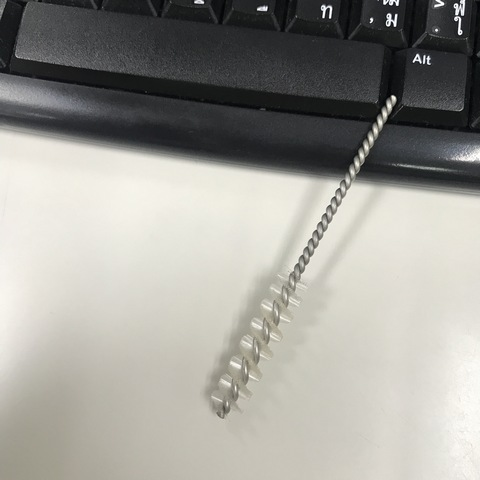Twist Brush-B: (205, 92, 402, 421)
